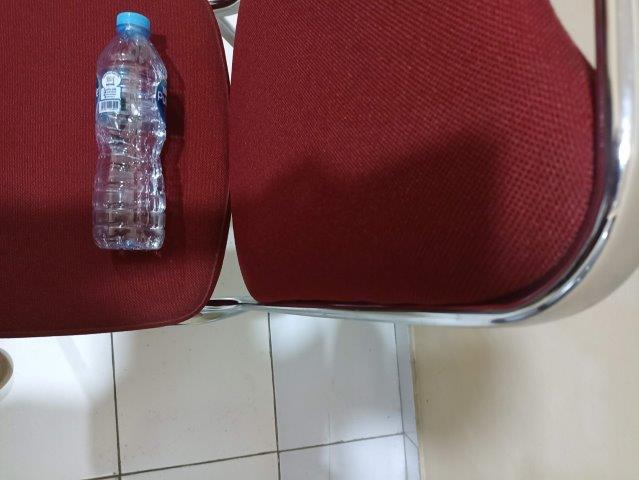botolplastik: (94, 11, 170, 248)
